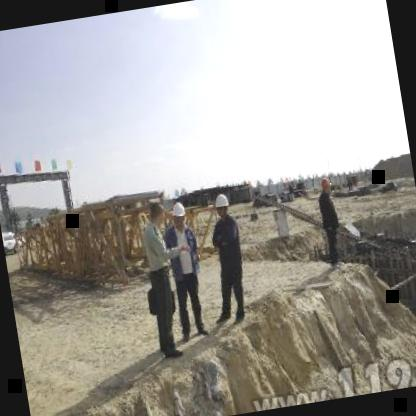helmet: (170, 201, 190, 229), (212, 191, 231, 218), (318, 175, 334, 196)
